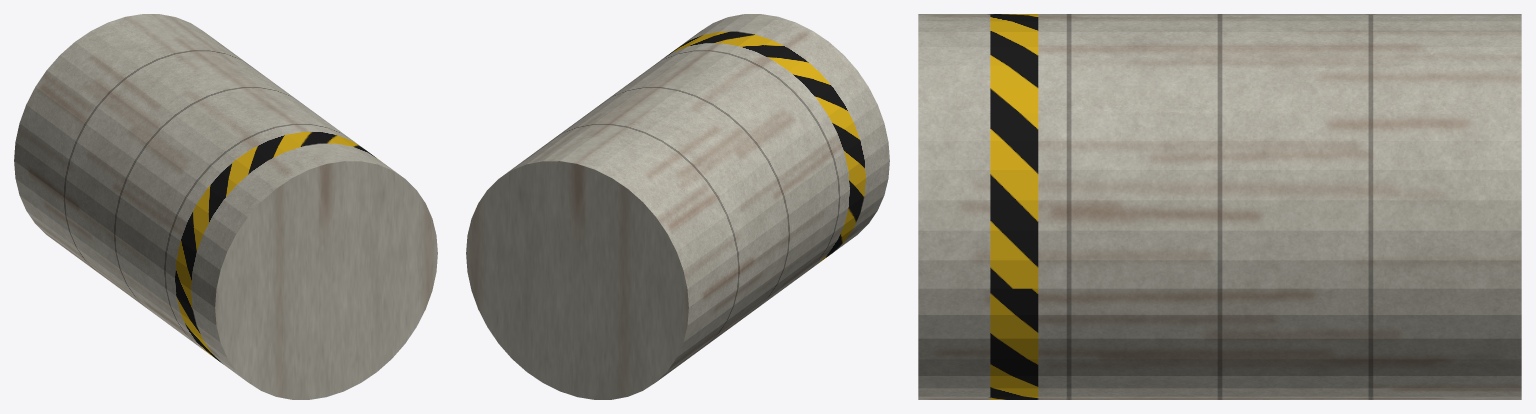
Rendered from tank_1.obj.
The picture shows the model from 3 angles, left to right: view 1: azimuth 30°, elevation 25°; view 2: azimuth 150°, elevation 25°; view 3: azimuth 270°, elevation 25°; orthographic projection. The views are drawn at different scales.
Bounding box in the file's own units: 3.2 × 3.2 × 5.
1 material, 1 textured.
